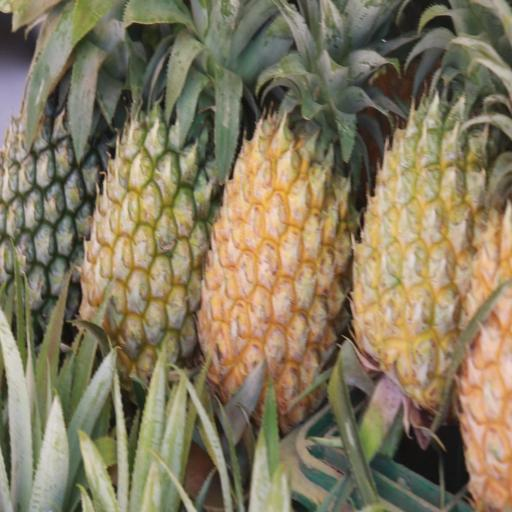------------------------------: (74, 0, 232, 383)
Pineapple - v8 v1: (191, 0, 357, 439), (347, 1, 507, 426)
